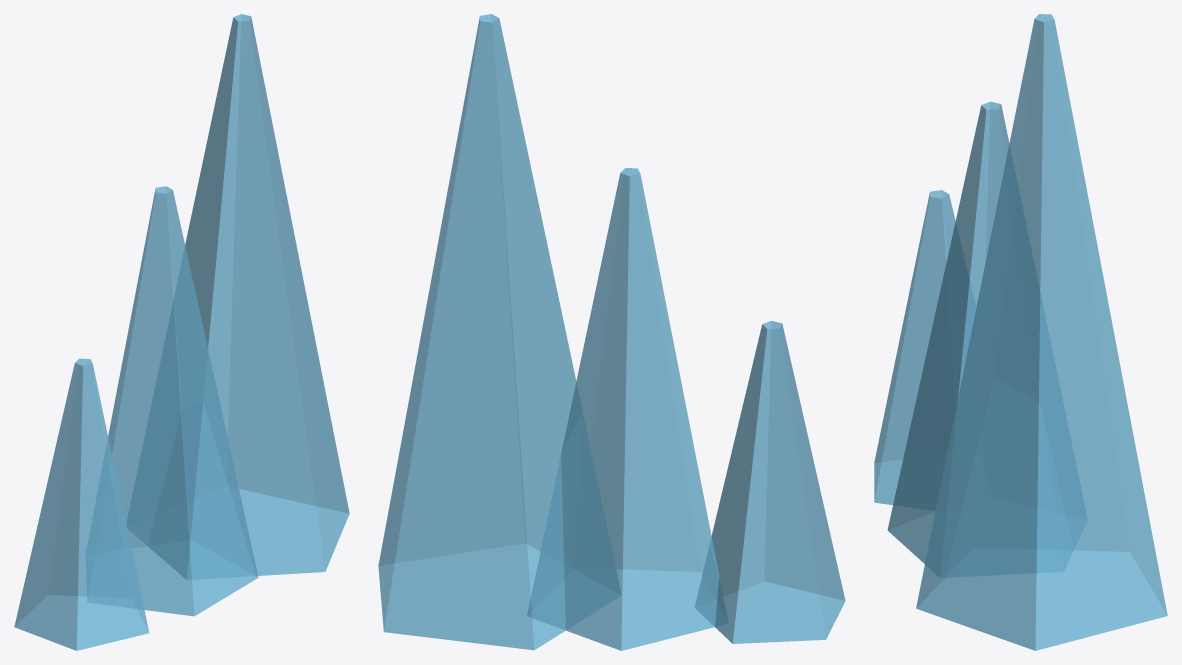
The model's file is prop_glacius_icicle.fbx.
3 renders of one model, left to right at view 1: azimuth 30°, elevation 25°; view 2: azimuth 150°, elevation 25°; view 3: azimuth 270°, elevation 25°, orthographic. The views are drawn at different scales.
Parts seen in each view (by area): view 1: G_Icicle_2, G_Icicle_1, G_Icicle_0; view 2: G_Icicle_2, G_Icicle_1, G_Icicle_0; view 3: G_Icicle_2, G_Icicle_1, G_Icicle_0.
Boxes of the visible parts, left/top/right/bottom form: G_Icicle_2: left=147, top=14, right=349, bottom=579; G_Icicle_1: left=87, top=186, right=258, bottom=616; G_Icicle_0: left=14, top=358, right=149, bottom=650; G_Icicle_2: left=378, top=14, right=621, bottom=650; G_Icicle_1: left=527, top=168, right=728, bottom=650; G_Icicle_0: left=695, top=320, right=845, bottom=643; G_Icicle_2: left=916, top=14, right=1167, bottom=650; G_Icicle_1: left=887, top=101, right=1073, bottom=577; G_Icicle_0: left=874, top=190, right=955, bottom=505.
Size of the model in its own units: 0.892 by 1.2 by 0.5531.
